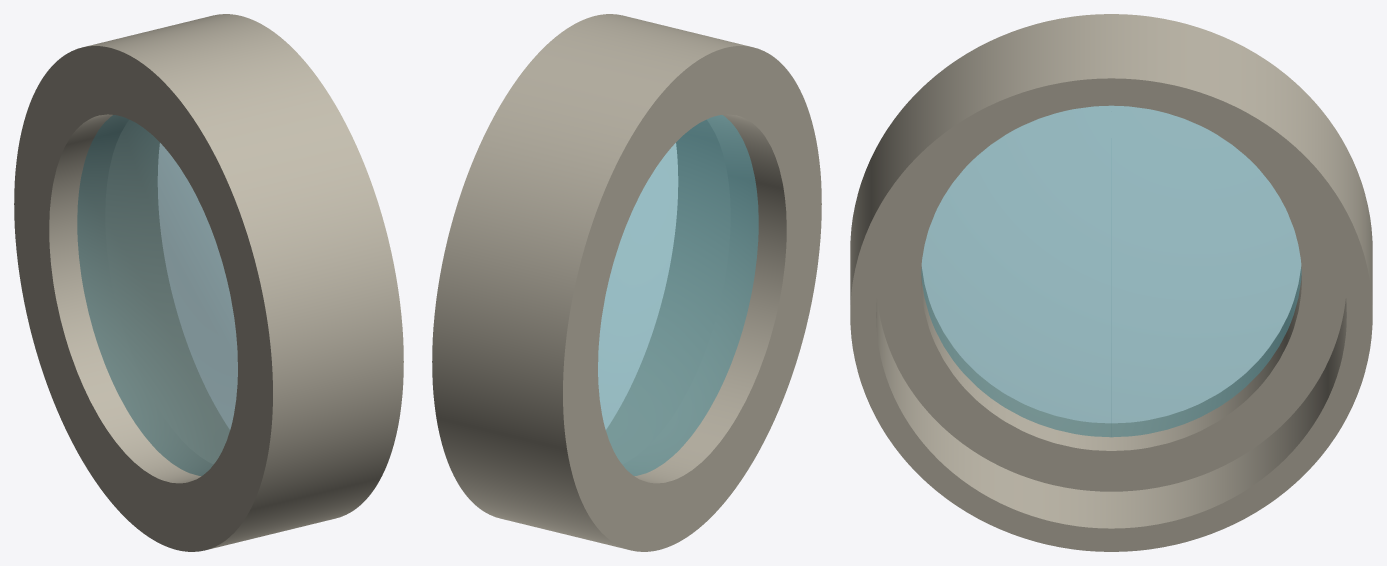
Rendered from telescope_objective.glb.
3 views of the same model, side by side, from view 1: azimuth 30°, elevation 25°; view 2: azimuth 150°, elevation 25°; view 3: azimuth 270°, elevation 25° (orthographic).
Parts seen in each view (by area): view 1: telescope_objective (×2); view 2: telescope_objective (×2); view 3: telescope_objective (×2).
Part boxes in pixels (<box>): telescope_objective (×2): <box>14,14,403,551</box>; telescope_objective (×2): <box>432,14,821,551</box>; telescope_objective (×2): <box>850,14,1372,551</box>.
Bounding box in the file's own units: 0.028 × 0.096 × 0.096.
